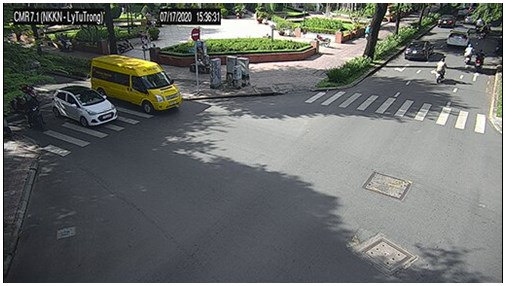xe_hoi: (52, 86, 118, 127), (406, 40, 434, 60), (447, 30, 470, 48), (437, 14, 455, 28), (463, 14, 477, 24)
xe_khach: (91, 54, 182, 113)
xe_may: (19, 95, 45, 131), (436, 58, 446, 83), (476, 48, 485, 72), (464, 44, 473, 65), (119, 39, 133, 52)
